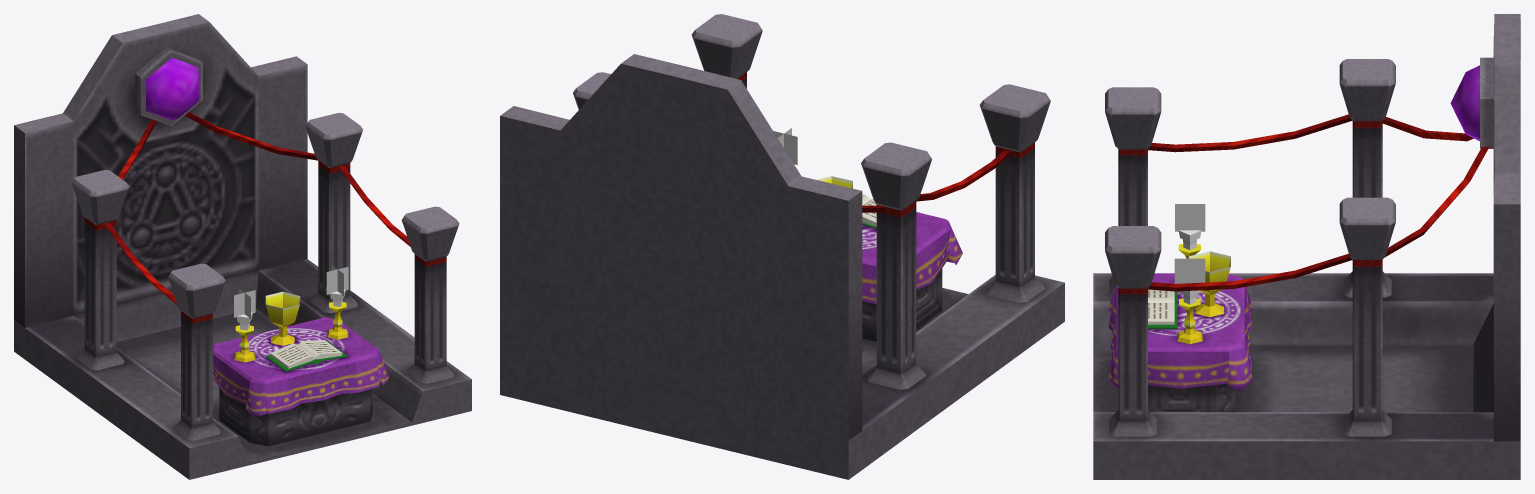
The model's file is Alter_L.fbx.
The picture shows the model from 3 angles, left to right: view 1: azimuth 30°, elevation 25°; view 2: azimuth 150°, elevation 25°; view 3: azimuth 270°, elevation 25°; orthographic projection. The views are drawn at different scales.
Visible parts, largest first — view 1: polySurface18, pPlane5; view 2: polySurface18; view 3: polySurface18, pPlane5.
Part boxes in pixels (x1,y1,x2,y2): polySurface18: (14,14,471,479); pPlane5: (234,265,348,319); polySurface18: (500,14,1064,479); polySurface18: (1093,14,1520,479); pPlane5: (1174,204,1205,283).
Bounding box in the file's own units: 2.8 × 2.77 × 3.01.
